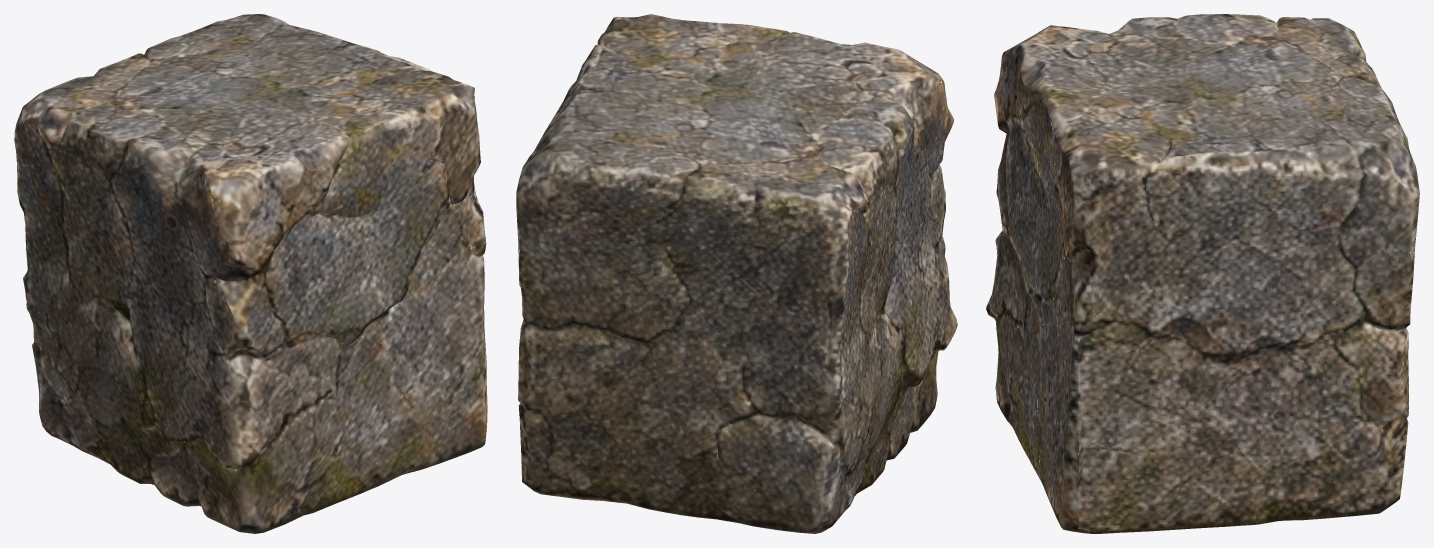
Rendered from piece_06_7602tris.glb.
3 renders of one model, left to right at view 1: azimuth 30°, elevation 25°; view 2: azimuth 150°, elevation 25°; view 3: azimuth 270°, elevation 25°, orthographic. The views are drawn at different scales.
Parts seen in each view (by area): view 1: Eldoria_MultiPiece_Group_06; view 2: Eldoria_MultiPiece_Group_06; view 3: Eldoria_MultiPiece_Group_06.
Part boxes in pixels (x1=…): Eldoria_MultiPiece_Group_06: x1=14, y1=14, x2=487, y2=533; Eldoria_MultiPiece_Group_06: x1=516, y1=14, x2=957, y2=533; Eldoria_MultiPiece_Group_06: x1=986, y1=14, x2=1419, y2=533.
Bounding box in the file's own units: 0.1999 × 0.197 × 0.2056.
1 material, 1 textured.
